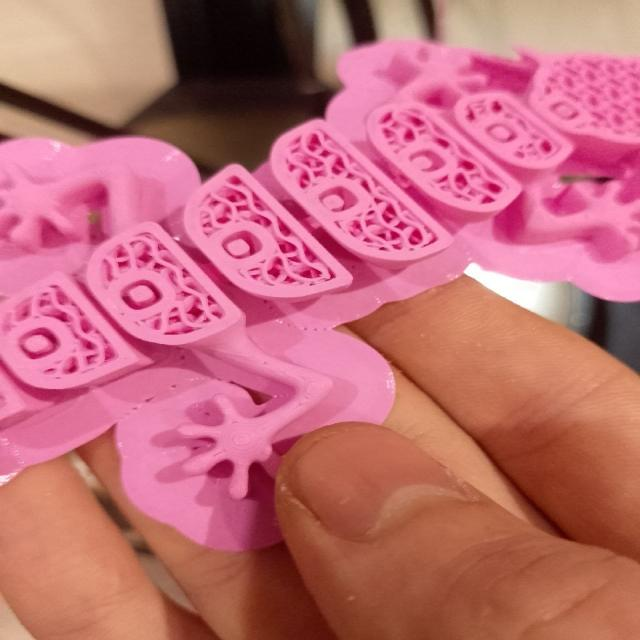Without deffect: (2, 19, 640, 556)
